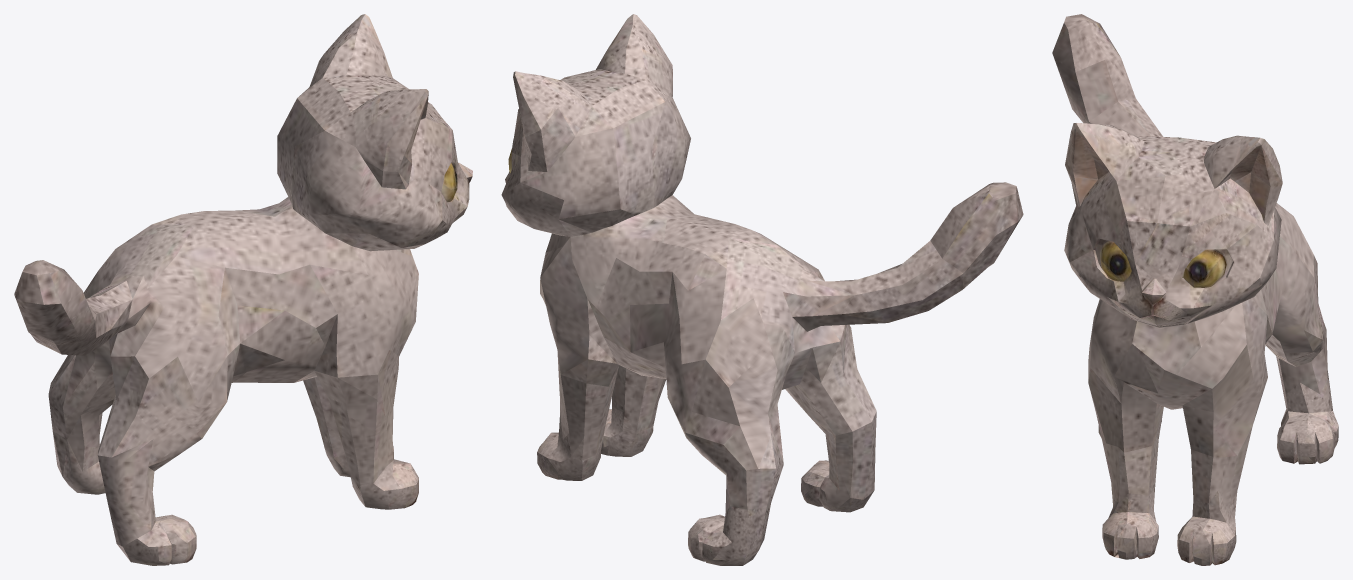
The model's file is PUMICE-lo.glb.
3 views of the same model, side by side, from view 1: azimuth 30°, elevation 25°; view 2: azimuth 150°, elevation 25°; view 3: azimuth 270°, elevation 25° (orthographic). The views are drawn at different scales.
Visible parts, largest first — view 1: output_unwrapped; view 2: output_unwrapped; view 3: output_unwrapped.
Part boxes in pixels (box(x1,y1,x2,y2)): output_unwrapped: box(14, 14, 472, 565); output_unwrapped: box(501, 14, 1023, 565); output_unwrapped: box(1052, 14, 1338, 565).
Size of the model in its own units: 1.19 by 1 by 0.6023.
Materials: 1 (1 with a texture image).
